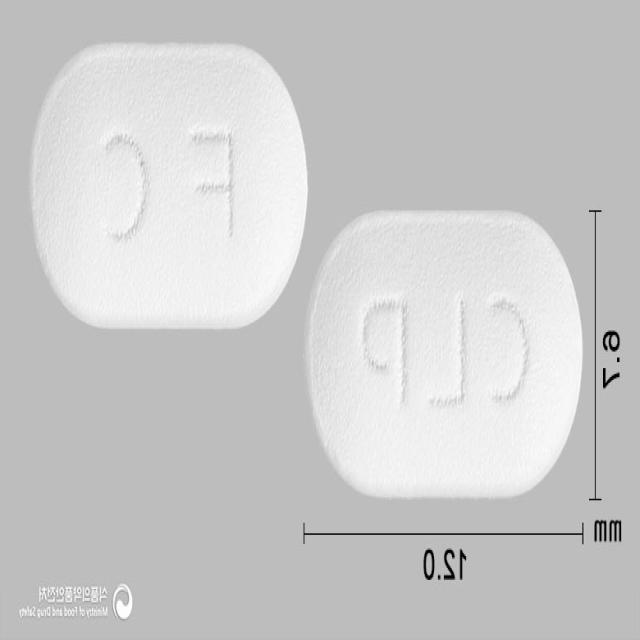Ciproctan - 500mg: (305, 207, 583, 502), (28, 42, 307, 330)
